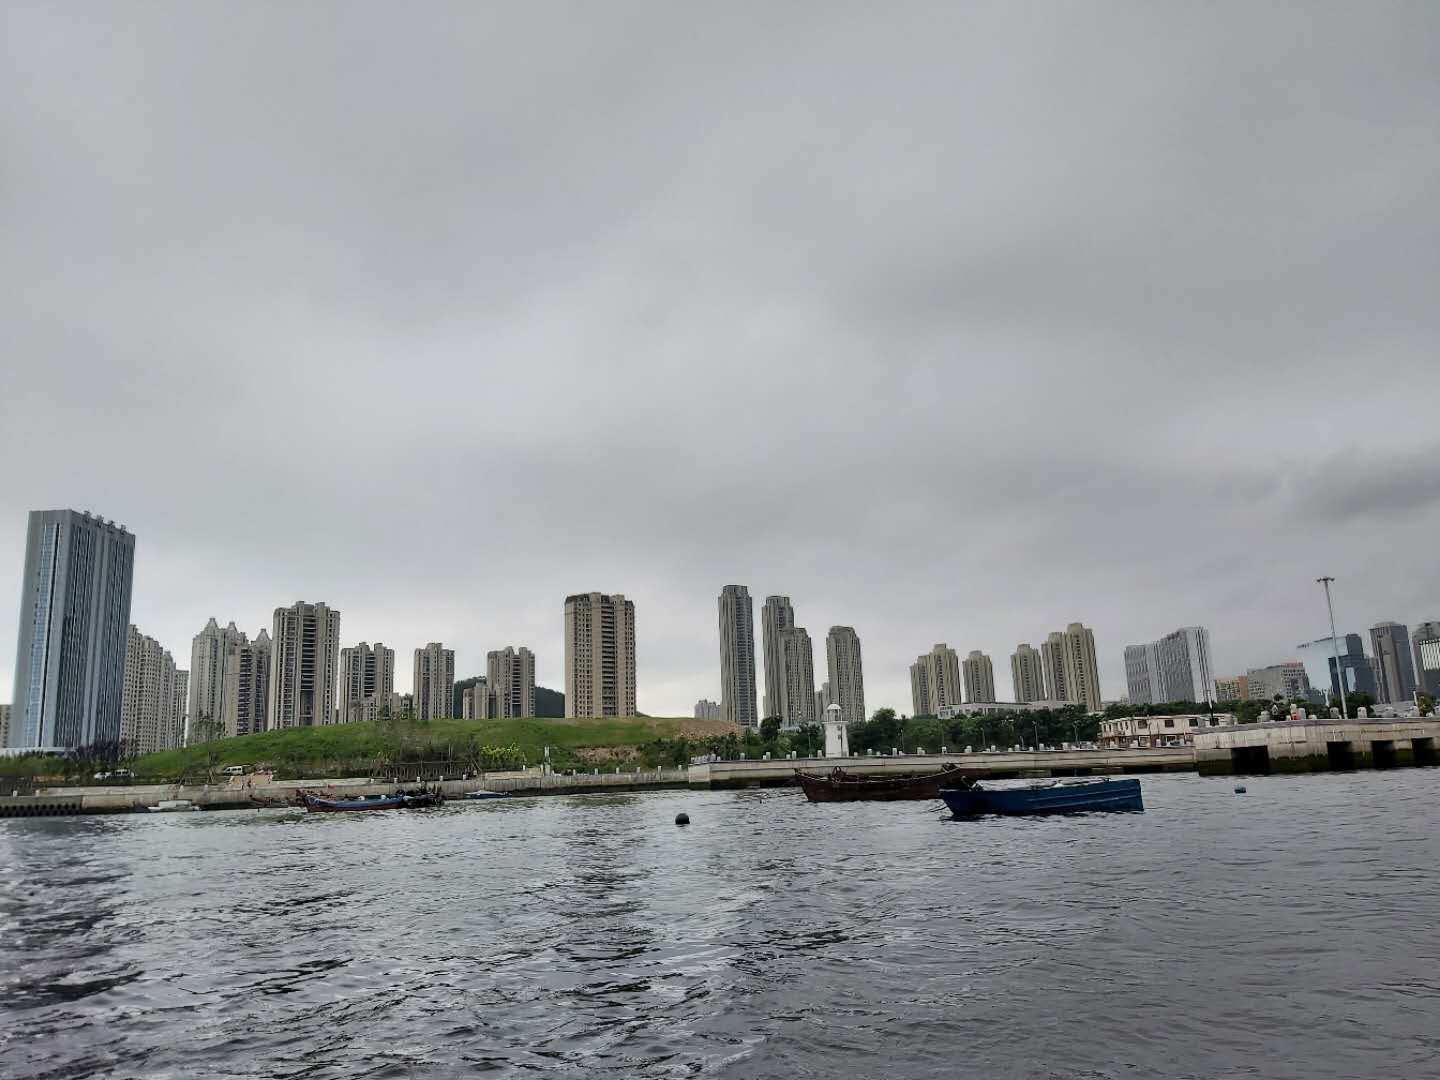ball: (669, 805, 696, 830), (1231, 781, 1257, 801)
boat: (929, 775, 1151, 829), (790, 757, 973, 808), (281, 784, 456, 815), (145, 795, 207, 817)
